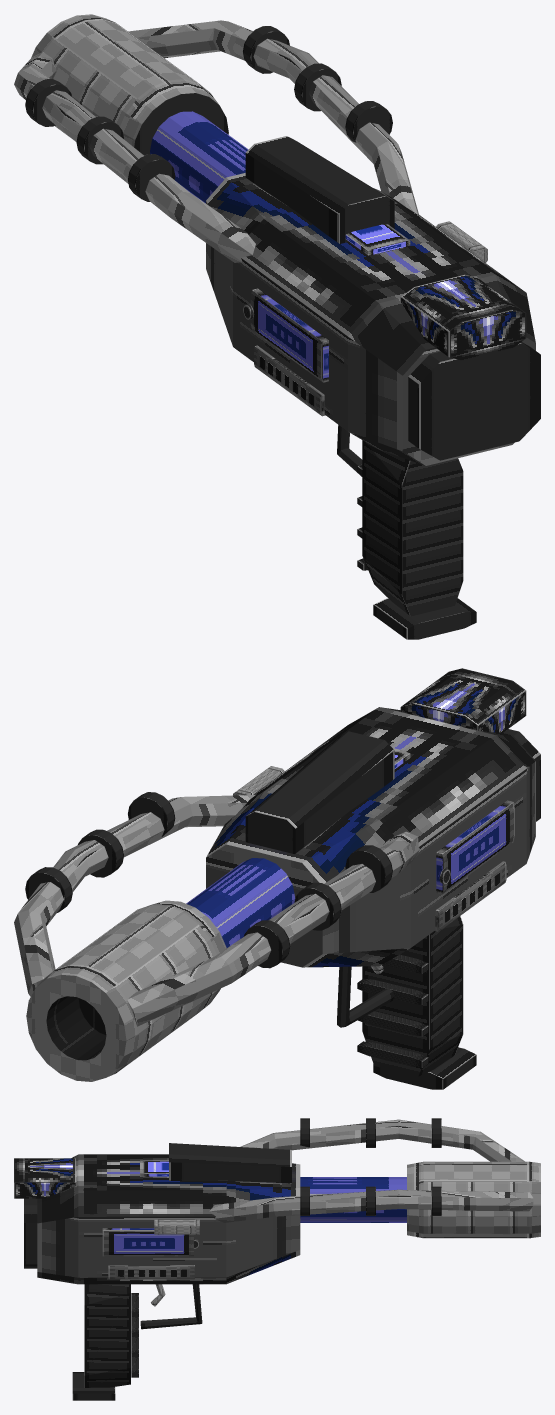
The model's file is plasma.glb.
The picture shows the model from 3 angles, top to bottom: view 1: azimuth 30°, elevation 25°; view 2: azimuth 150°, elevation 25°; view 3: azimuth 270°, elevation 25°; orthographic projection. The views are drawn at different scales.
Parts seen in each view (by area): view 1: Detailed weapon shell.004, Charging slide; view 2: Detailed weapon shell.004, Charging slide; view 3: Detailed weapon shell.004, Charging slide.
Part boxes in pixels (x1,y1,x2,y2): Detailed weapon shell.004: (14,14,540,639); Charging slide: (436,221,487,262); Detailed weapon shell.004: (14,668,540,1089); Charging slide: (233,766,284,795); Detailed weapon shell.004: (14,1118,540,1400); Charging slide: (154,1219,199,1234).
Size of what is drawn, in the model's own units: 0.232 by 0.326 by 0.6415.
2 materials, 2 textured.
